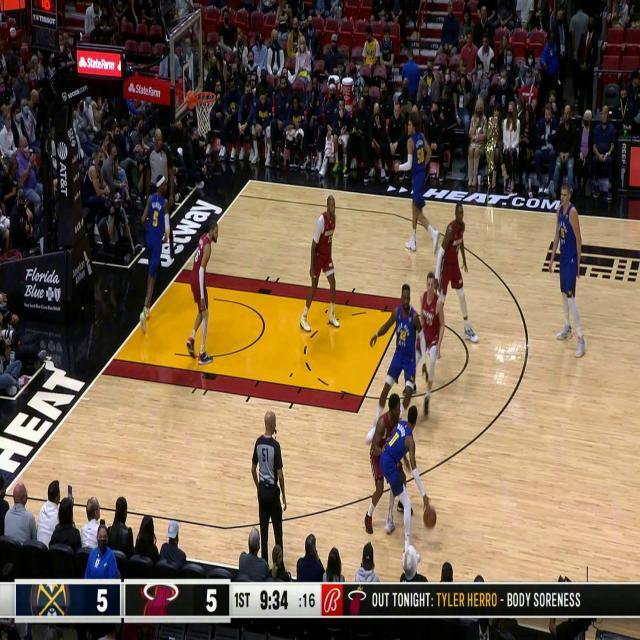rim: (424, 506, 436, 526)
